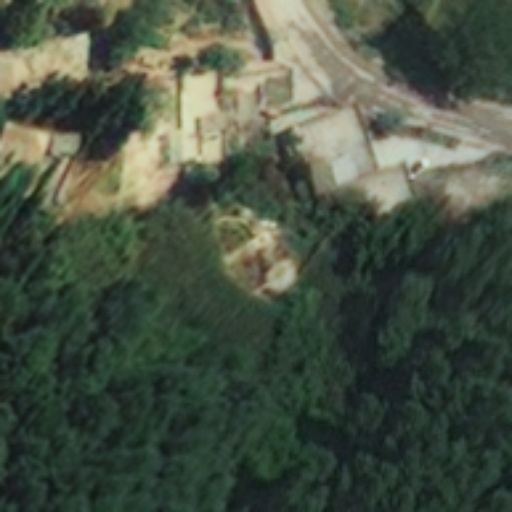landslide: (13, 131, 183, 218), (215, 205, 301, 302)
